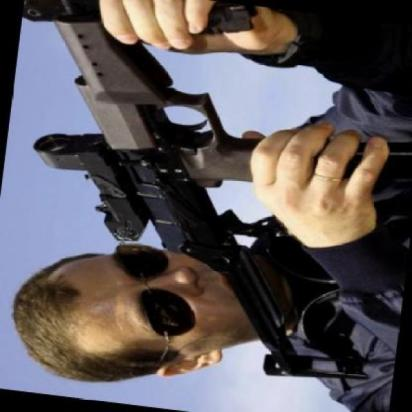Gun: (51, 0, 296, 351)
